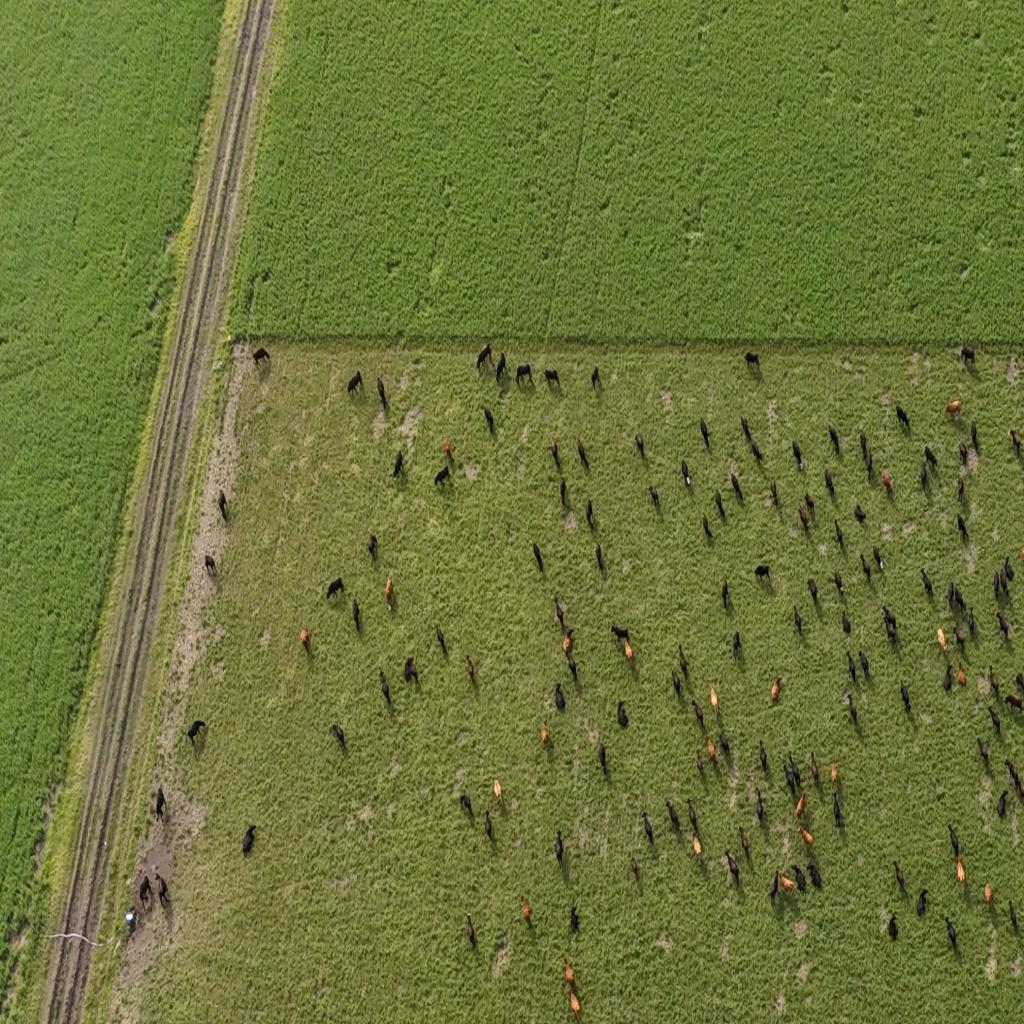cow: (1004, 758, 1022, 796), (724, 850, 740, 889), (154, 870, 169, 908), (139, 875, 153, 909), (188, 720, 206, 746), (331, 723, 347, 752), (476, 342, 492, 371), (1004, 691, 1023, 715), (569, 987, 582, 1022), (945, 916, 958, 951), (242, 824, 256, 856), (666, 799, 680, 831), (155, 785, 167, 822), (948, 823, 960, 860), (459, 793, 473, 824), (976, 737, 990, 768), (988, 704, 1002, 735), (778, 870, 796, 894), (404, 656, 418, 686), (1008, 426, 1023, 454), (900, 681, 912, 716), (916, 888, 930, 918), (347, 370, 363, 396), (516, 362, 532, 388), (893, 860, 906, 892), (642, 811, 654, 845), (784, 764, 796, 798), (379, 669, 390, 706), (554, 828, 564, 868), (326, 579, 344, 601), (252, 347, 270, 369), (769, 869, 780, 905), (954, 583, 966, 616), (808, 862, 822, 890), (885, 616, 898, 646), (798, 824, 814, 848), (577, 438, 589, 470), (860, 550, 872, 582), (792, 756, 804, 788), (610, 624, 629, 644), (896, 404, 910, 431), (543, 368, 560, 390), (554, 594, 565, 628), (731, 471, 743, 502), (998, 611, 1010, 642), (466, 912, 476, 949), (924, 445, 938, 471), (564, 955, 575, 988), (687, 799, 698, 832), (495, 351, 506, 384), (1008, 899, 1019, 932), (384, 576, 394, 612), (352, 597, 362, 633), (847, 650, 857, 686), (997, 790, 1009, 820), (828, 426, 840, 456), (921, 568, 933, 598), (434, 465, 450, 487), (744, 350, 760, 372), (859, 649, 870, 681), (794, 866, 807, 893), (810, 752, 820, 787), (678, 643, 688, 678), (566, 654, 578, 683), (377, 376, 387, 410), (740, 824, 750, 858), (392, 451, 404, 479), (366, 532, 378, 560), (954, 624, 966, 652), (719, 732, 731, 760), (833, 791, 842, 828), (960, 346, 975, 368), (792, 440, 803, 470), (888, 912, 899, 942), (988, 665, 999, 695), (521, 894, 531, 926), (700, 418, 710, 450), (794, 606, 804, 638), (798, 505, 809, 534), (436, 626, 447, 655), (617, 700, 628, 729), (957, 855, 966, 890), (771, 676, 783, 702), (204, 554, 217, 578), (693, 700, 705, 726), (854, 502, 867, 526), (796, 789, 806, 820), (218, 490, 228, 521), (732, 629, 742, 660), (942, 664, 952, 695), (1004, 555, 1014, 586), (937, 626, 948, 654), (833, 568, 844, 596), (957, 512, 968, 540), (629, 856, 640, 884), (873, 546, 884, 574), (598, 741, 607, 775), (759, 740, 768, 774), (754, 564, 770, 583), (533, 542, 543, 572), (805, 492, 815, 522), (824, 468, 834, 498), (569, 903, 579, 933), (751, 439, 763, 464), (945, 400, 961, 418), (756, 788, 764, 824), (484, 810, 493, 842), (993, 571, 1002, 603), (562, 630, 573, 656), (442, 438, 453, 464), (299, 626, 310, 652), (649, 484, 660, 510), (706, 736, 716, 764), (484, 406, 494, 434), (550, 438, 560, 466), (555, 684, 565, 712), (672, 669, 682, 697), (808, 578, 818, 606), (971, 420, 979, 455), (848, 700, 858, 728), (740, 413, 750, 440), (681, 459, 691, 486), (595, 543, 604, 573), (835, 518, 844, 548), (948, 579, 956, 612), (715, 489, 724, 518), (882, 469, 892, 495), (634, 432, 644, 458), (968, 606, 976, 638), (693, 831, 702, 859), (842, 609, 851, 637), (957, 662, 967, 687), (710, 680, 718, 711), (494, 776, 502, 807), (586, 498, 594, 529), (696, 751, 705, 778), (624, 640, 634, 664), (722, 580, 730, 610), (920, 462, 928, 492), (860, 430, 868, 459), (591, 366, 600, 391), (702, 514, 711, 539), (959, 442, 968, 467), (560, 476, 567, 508), (467, 656, 475, 684), (866, 450, 873, 481), (770, 478, 778, 504), (541, 720, 549, 745), (831, 758, 838, 786), (984, 881, 992, 905), (958, 475, 965, 502), (1018, 672, 1024, 700)
